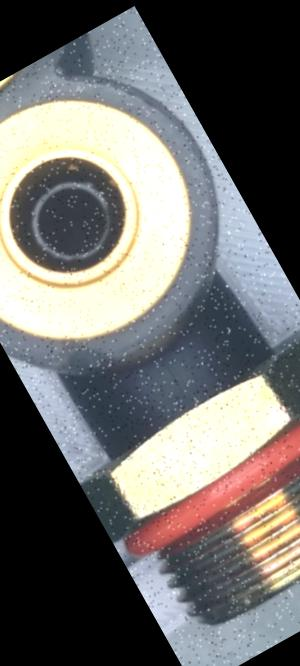bump: (50, 331, 119, 395)
joint line: (155, 350, 197, 411)
